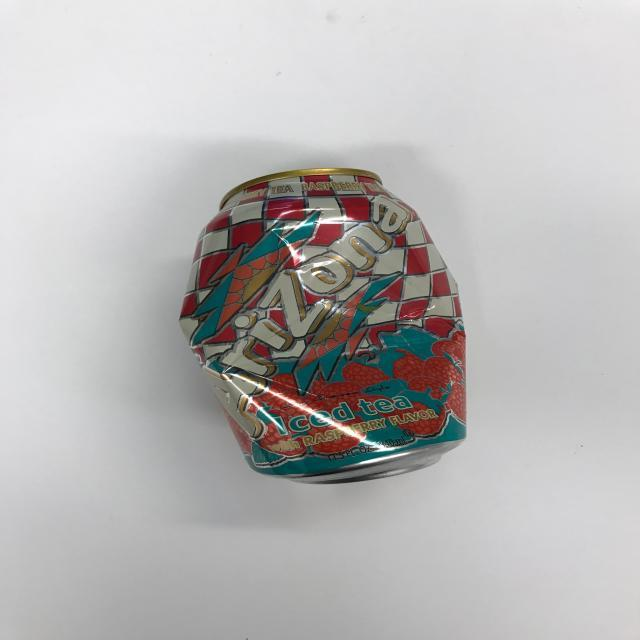metal: (174, 168, 468, 486)
